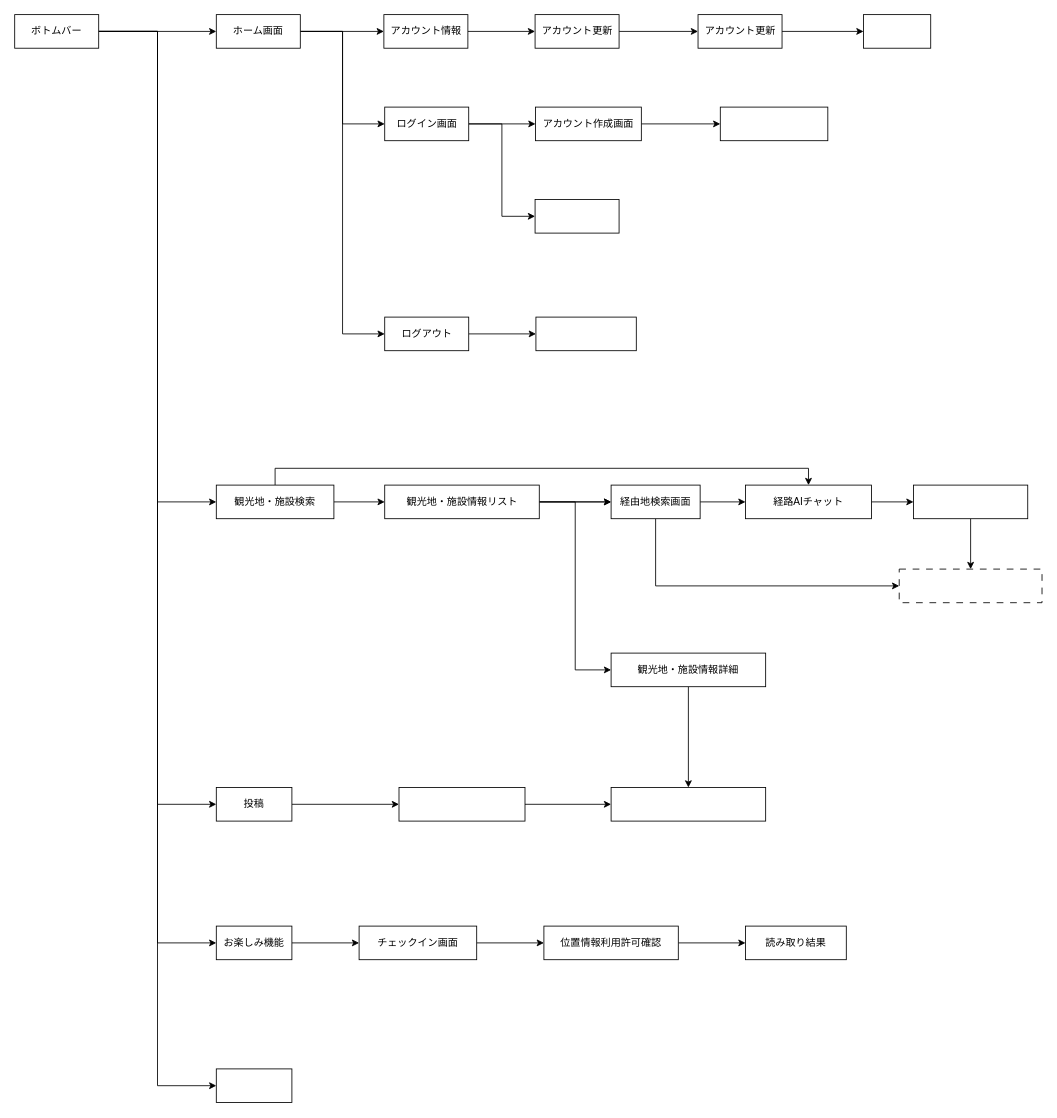
Some shapes in this 1057 by 1118 pixel diagram are drawn without their labels. The box of each missing label's shape, as (x1, y1, x2, y2) in pixels:
AI経路提案画面: (913, 484, 1028, 519)
Googleマップ地図画面: (898, 568, 1042, 603)
クーポン: (215, 1068, 292, 1102)
ログアウト結果: (535, 316, 636, 351)
ログイン結果: (534, 199, 619, 233)
作成結果: (719, 106, 828, 141)
投稿一覧（マップ上）: (398, 787, 525, 821)
更新結果: (863, 14, 931, 48)
評価・口コミ・写真投稿画面: (610, 787, 766, 821)
